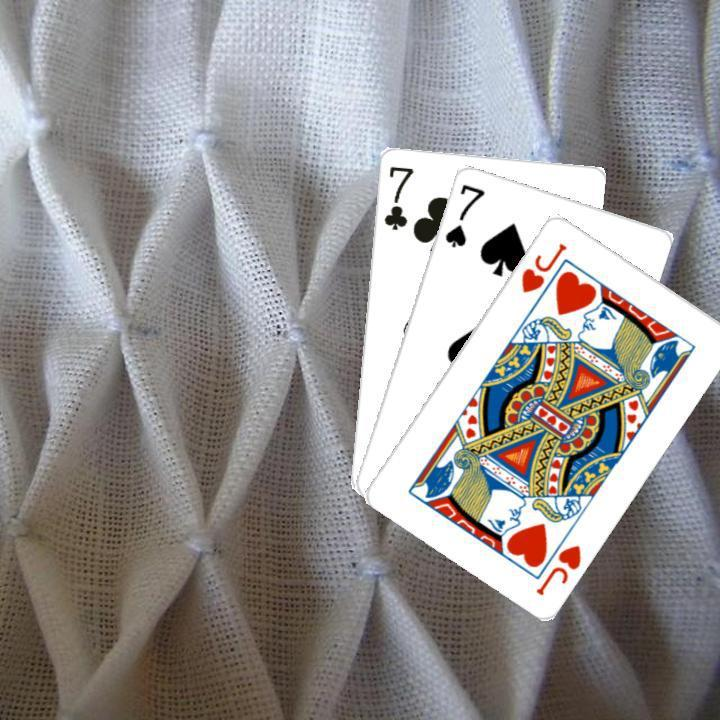7: (440, 178, 486, 249), (379, 161, 415, 232)
J: (516, 238, 569, 295), (531, 540, 584, 597)
